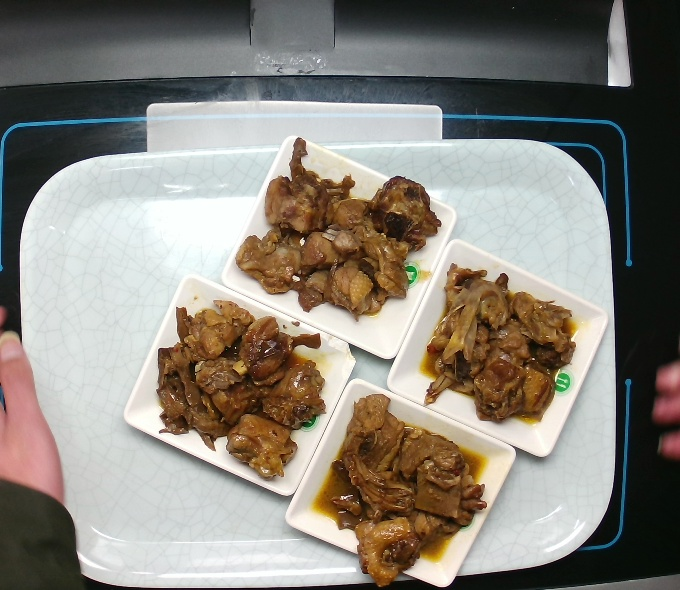wcq-HongShaoJi: (235, 127, 446, 320), (145, 291, 340, 487), (326, 380, 494, 586), (419, 246, 580, 435)
